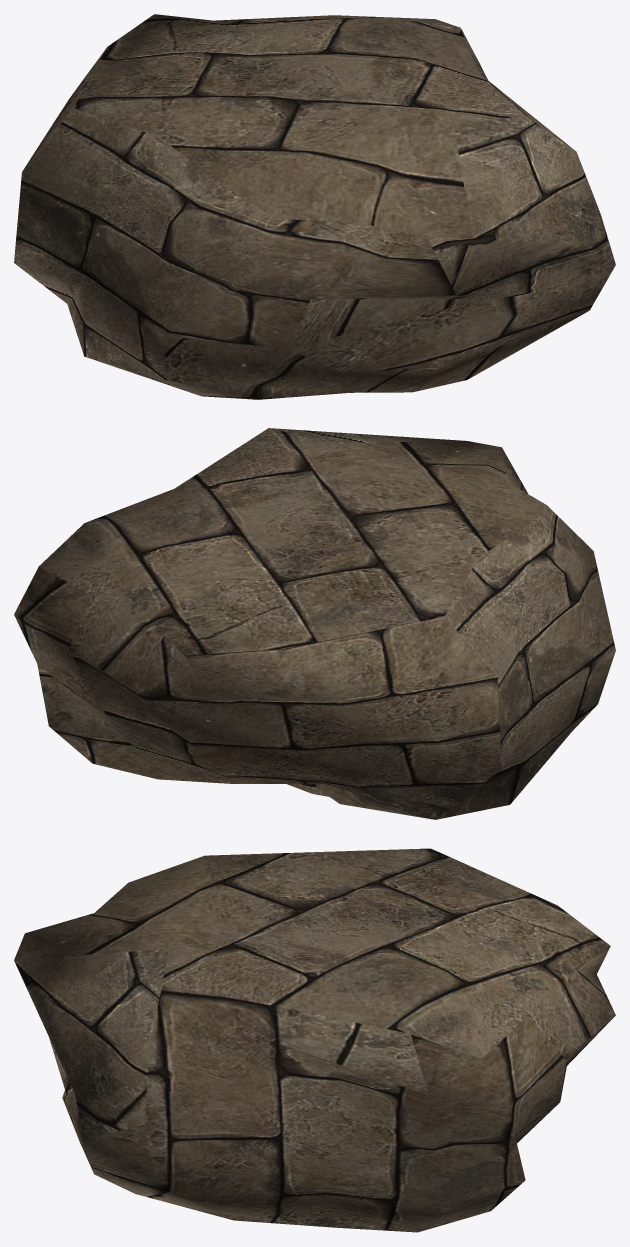
The model's file is rock.obj.
3 renders of one model, top to bottom at view 1: azimuth 30°, elevation 25°; view 2: azimuth 150°, elevation 25°; view 3: azimuth 270°, elevation 25°, orthographic.
Visible parts, largest first — view 1: Cube; view 2: Cube; view 3: Cube.
Boxes of the visible parts, x1,y1,x2,y2 form: Cube: [14, 14, 615, 399]; Cube: [14, 428, 615, 819]; Cube: [14, 848, 615, 1232].
Size of the model in its own units: 3.18 by 1.68 by 3.63.
